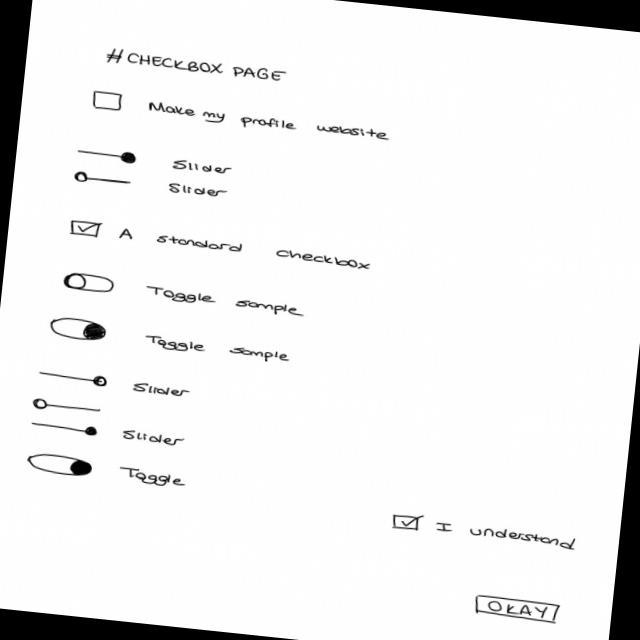button: (472, 592, 562, 625)
checkbox: (88, 89, 394, 144), (68, 218, 374, 271), (389, 511, 578, 552)
label: (102, 46, 288, 84), (140, 284, 306, 318), (144, 332, 292, 364), (116, 464, 186, 488), (170, 156, 237, 177), (120, 428, 190, 448), (167, 180, 230, 200), (129, 380, 192, 398)
slider: (74, 144, 140, 167), (36, 368, 110, 388), (32, 396, 104, 416), (28, 418, 99, 438), (72, 168, 133, 188)
toggle: (23, 450, 94, 478), (48, 314, 109, 344), (61, 270, 116, 295)
